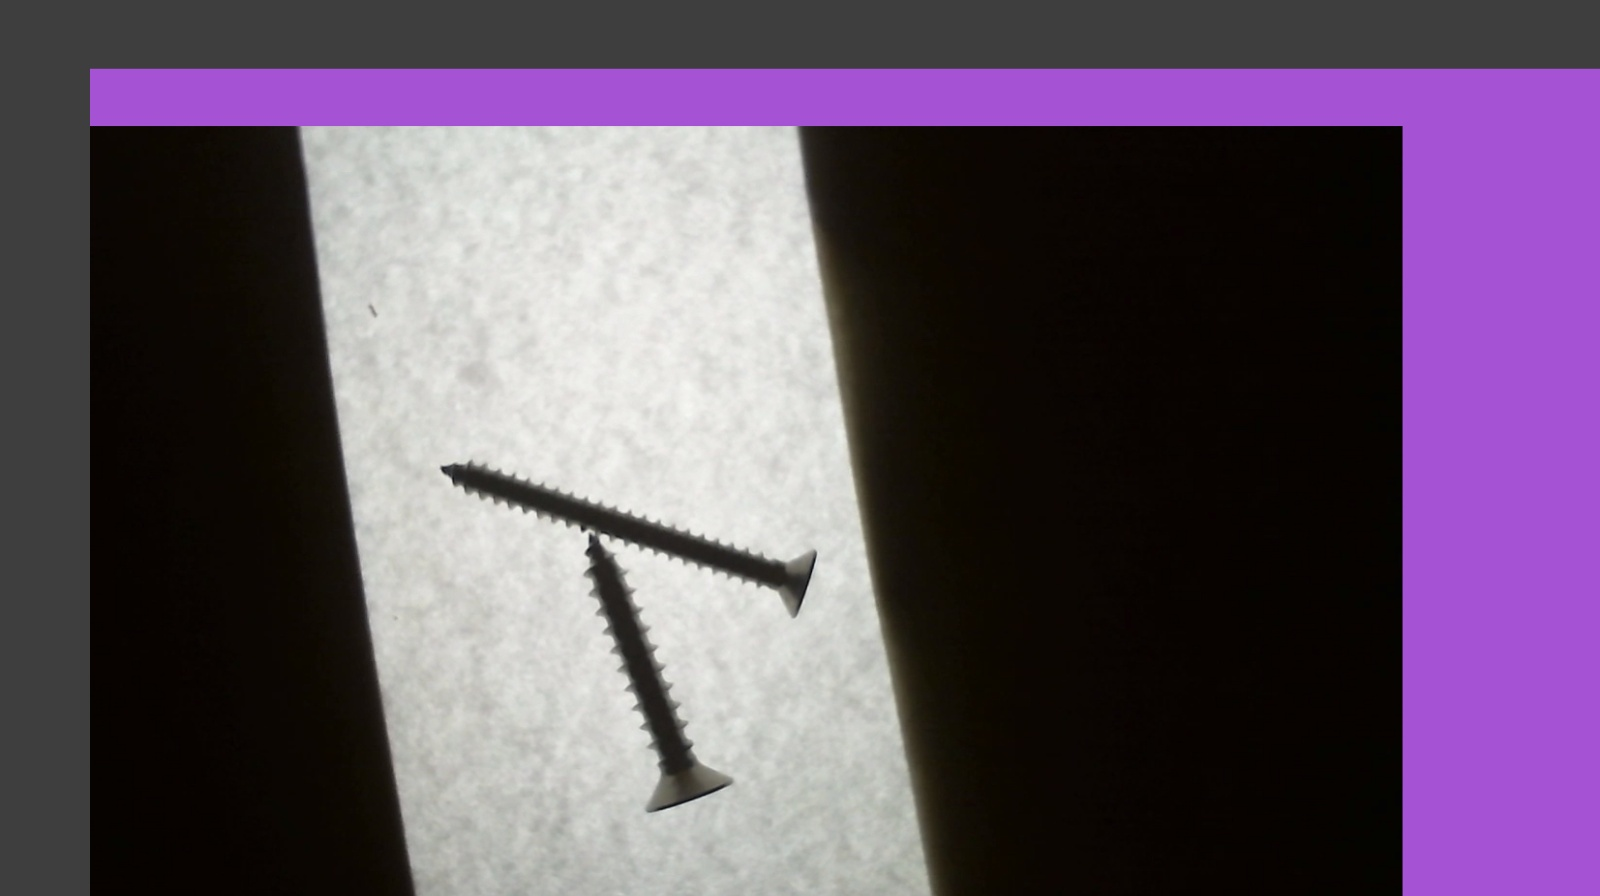S001: (578, 530, 737, 815)
S002: (438, 460, 825, 622)
